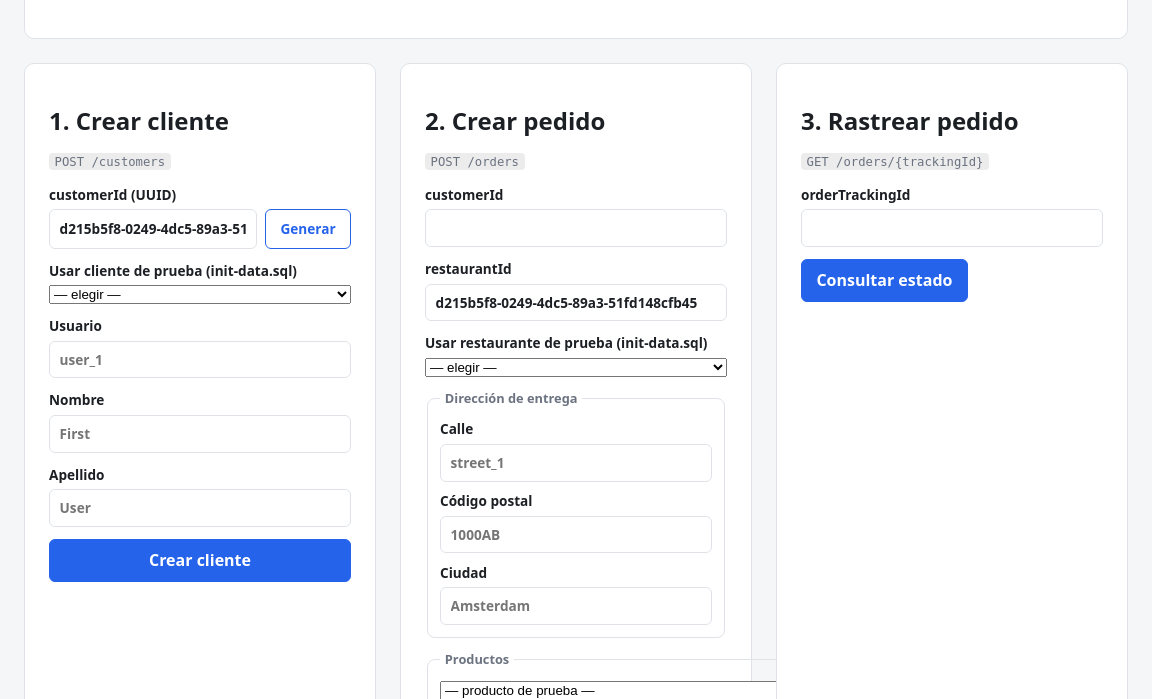
Test: App › creating a customer flows the returned customerId into the order form's customerId field
(page scrolled)
Type "jdoe" into the field labelled "Usuario" at [200, 360], box x1=49 y1=341 x2=351 y2=378
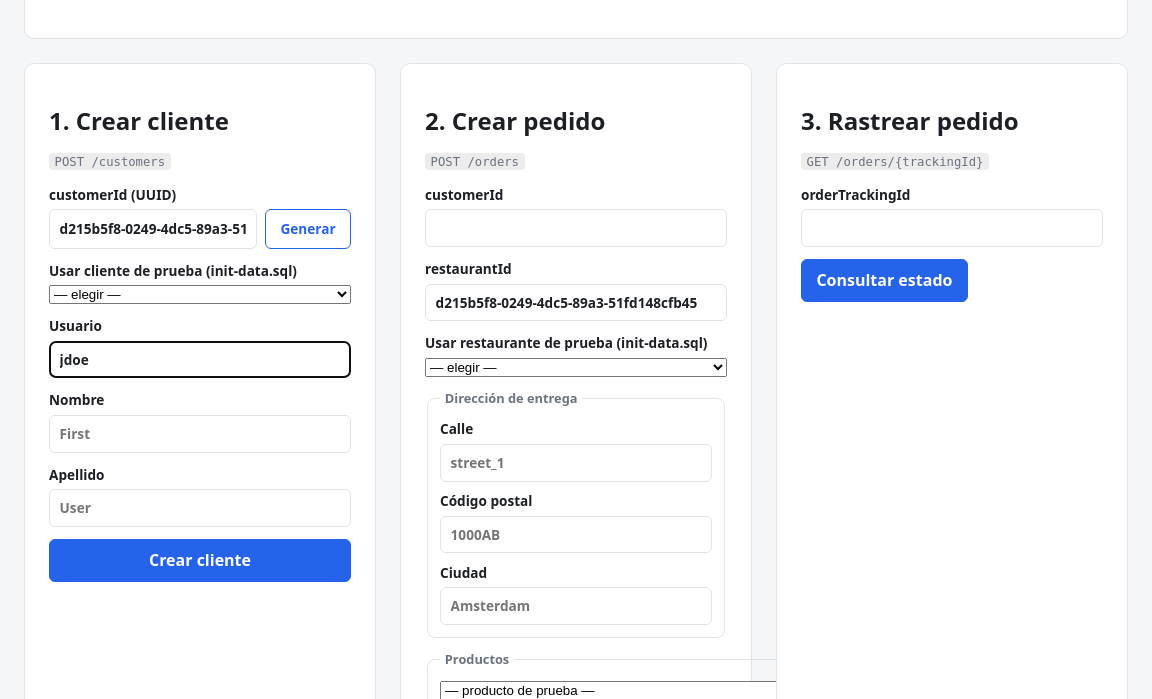
Type "Jane" into the field labelled "Nombre" at [200, 434], box x1=49 y1=415 x2=351 y2=453
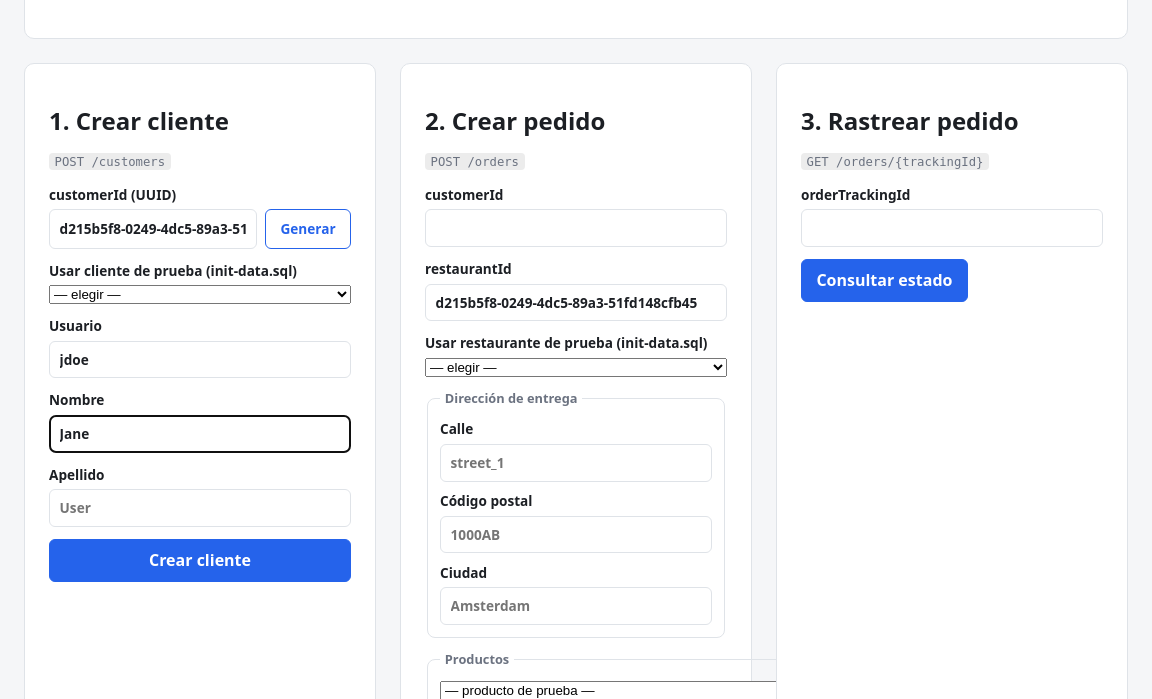
Type "Doe" into the field labelled "Apellido" at [200, 508], box x1=49 y1=489 x2=351 y2=527
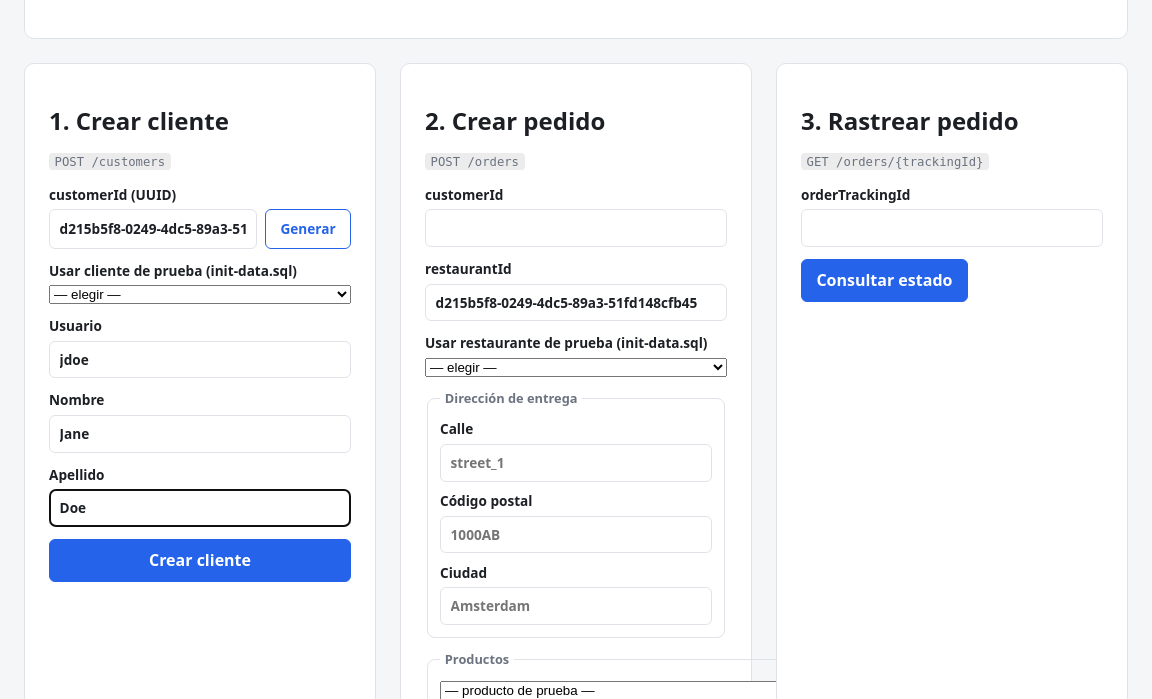
Click the button "Crear cliente" at [200, 560], box x1=49 y1=539 x2=351 y2=582
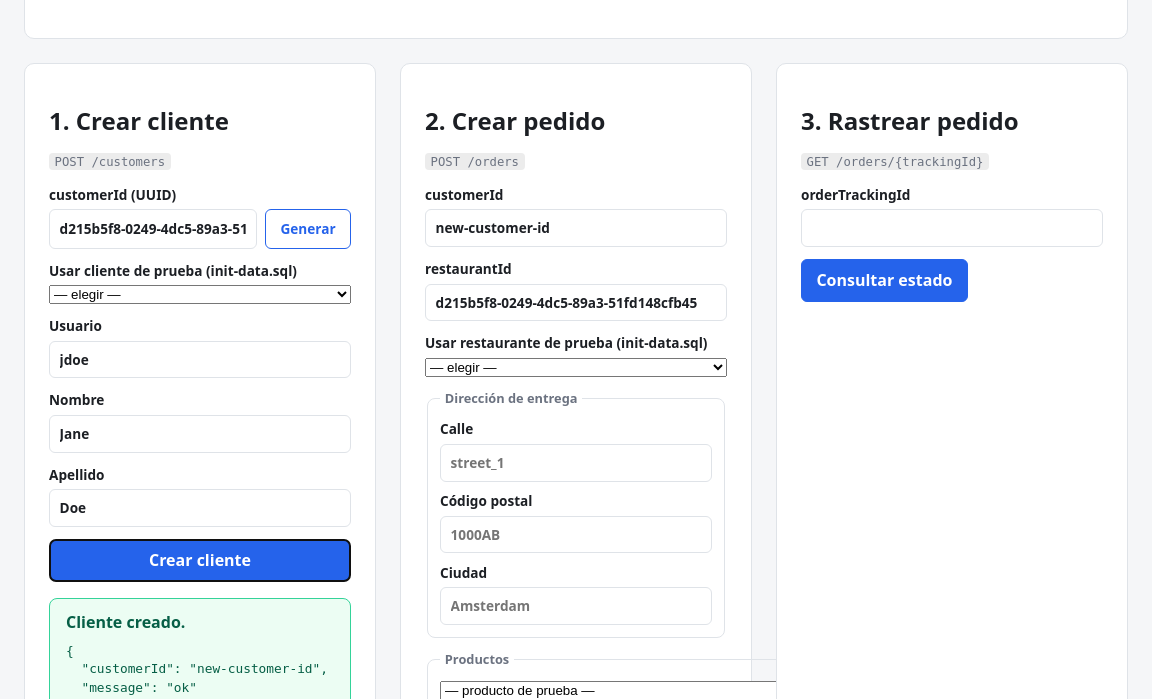
Now the field labelled "customerId" holds "new-customer-id", box x1=425 y1=209 x2=727 y2=247
